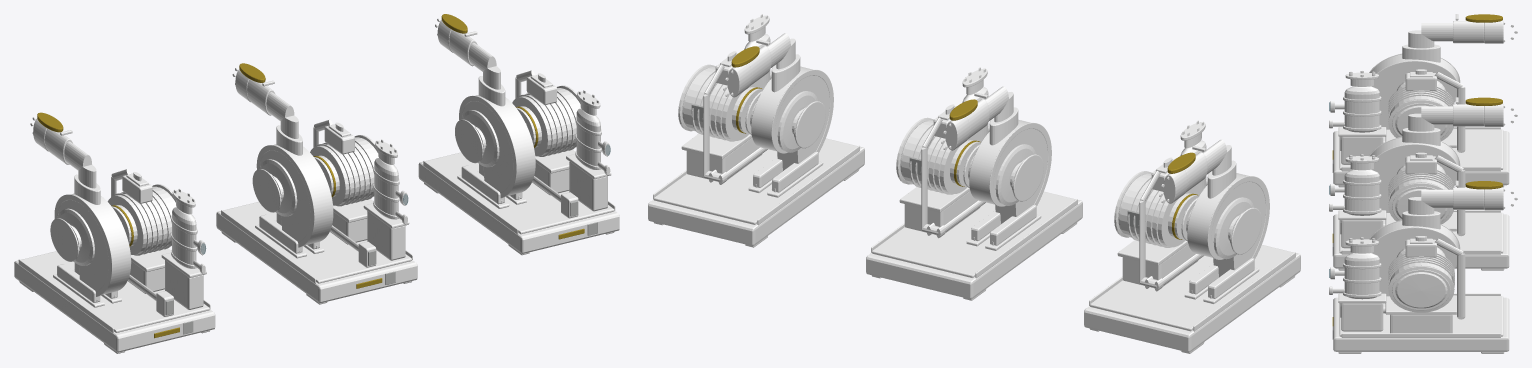
Rendered from xuanshu_interior_C13.glb.
3 renders of one model, left to right at view 1: azimuth 30°, elevation 25°; view 2: azimuth 150°, elevation 25°; view 3: azimuth 270°, elevation 25°, orthographic. The views are drawn at different scales.
Parts seen in each view (by area): view 1: UNIT-WTR-001_LOD05, UNIT-WTR-001_LOD06, UNIT-WTR-001_LOD07; view 2: UNIT-WTR-001_LOD07, UNIT-WTR-001_LOD06, UNIT-WTR-001_LOD05; view 3: UNIT-WTR-001_LOD07, UNIT-WTR-001_LOD06, UNIT-WTR-001_LOD05.
Part boxes in pixels (x1,y1,x2,y2): UNIT-WTR-001_LOD05: (14, 112, 215, 353); UNIT-WTR-001_LOD06: (216, 63, 417, 304); UNIT-WTR-001_LOD07: (418, 14, 619, 255); UNIT-WTR-001_LOD07: (648, 14, 864, 247); UNIT-WTR-001_LOD06: (866, 67, 1082, 300); UNIT-WTR-001_LOD05: (1084, 120, 1300, 353); UNIT-WTR-001_LOD07: (1329, 180, 1517, 353); UNIT-WTR-001_LOD06: (1329, 97, 1517, 270); UNIT-WTR-001_LOD05: (1329, 14, 1517, 187).
Bounding box in the file's own units: 2.65 × 0.828 × 1.01.
